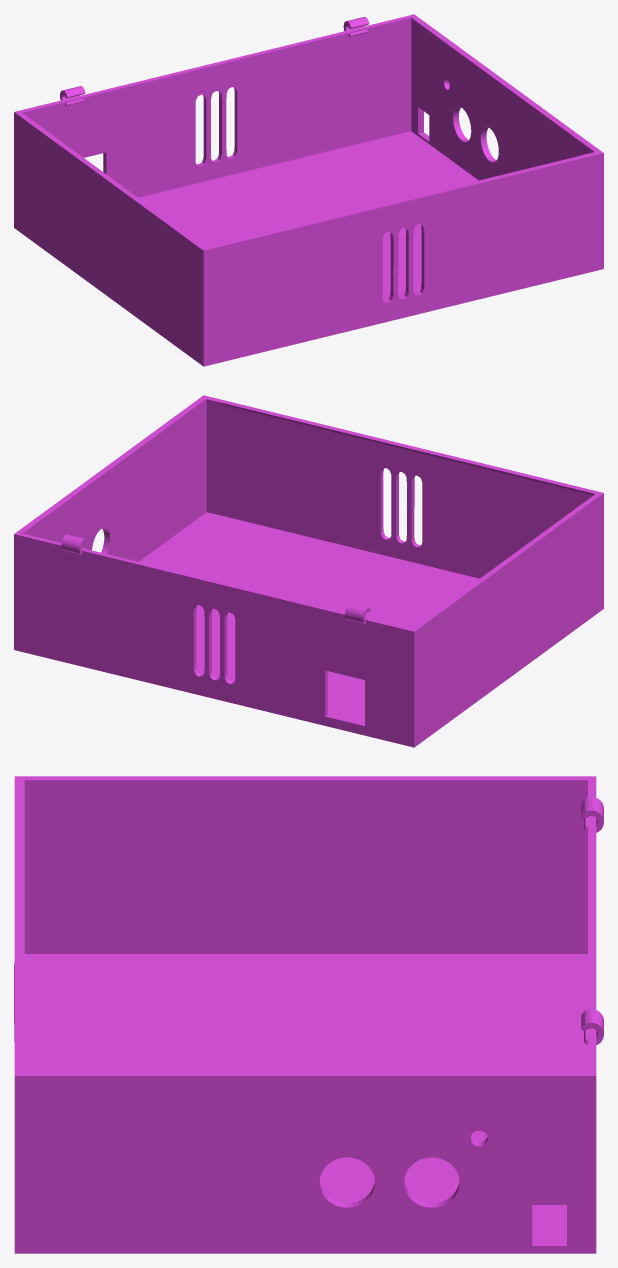
The model's file is kotak.glb.
The picture shows the model from 3 angles, top to bottom: view 1: azimuth 30°, elevation 25°; view 2: azimuth 150°, elevation 25°; view 3: azimuth 270°, elevation 25°; orthographic projection. The views are drawn at different scales.
Parts seen in each view (by area): view 1: Kotak; view 2: Kotak; view 3: Kotak.
Part boxes in pixels (x1=…): Kotak: x1=14, y1=14, x2=603, y2=366; Kotak: x1=14, y1=395, x2=603, y2=747; Kotak: x1=14, y1=776, x2=603, y2=1253.
Bounding box in the file's own units: 0.2037 × 0.0614 × 0.1696.
